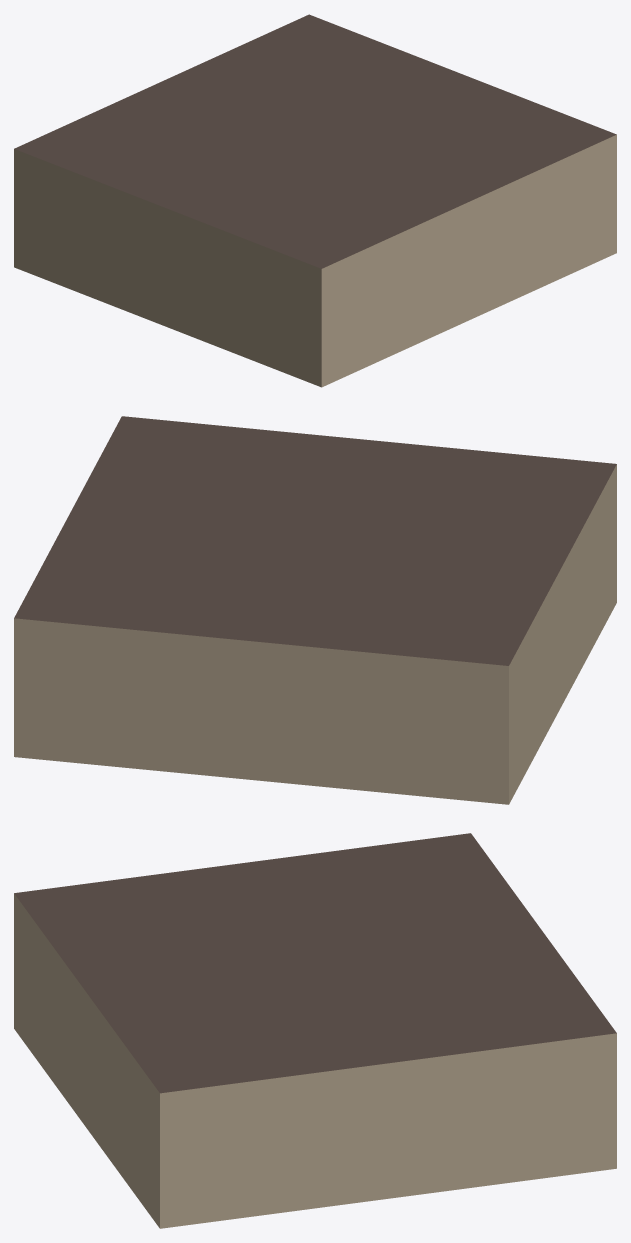
The picture shows the model from 3 angles, top to bottom: view 1: azimuth 30°, elevation 25°; view 2: azimuth 150°, elevation 25°; view 3: azimuth 270°, elevation 25°; orthographic projection. The views are drawn at different scales.
Parts seen in each view (by area): view 1: HP-w1435330156; view 2: HP-w1435330156; view 3: HP-w1435330156.
Boxes of the visible parts, x1,y1,x2,y2 form: HP-w1435330156: (14,14,616,387); HP-w1435330156: (14,416,616,804); HP-w1435330156: (14,833,616,1228).
Bounding box in the file's own units: 37.08 × 9 × 36.31.
